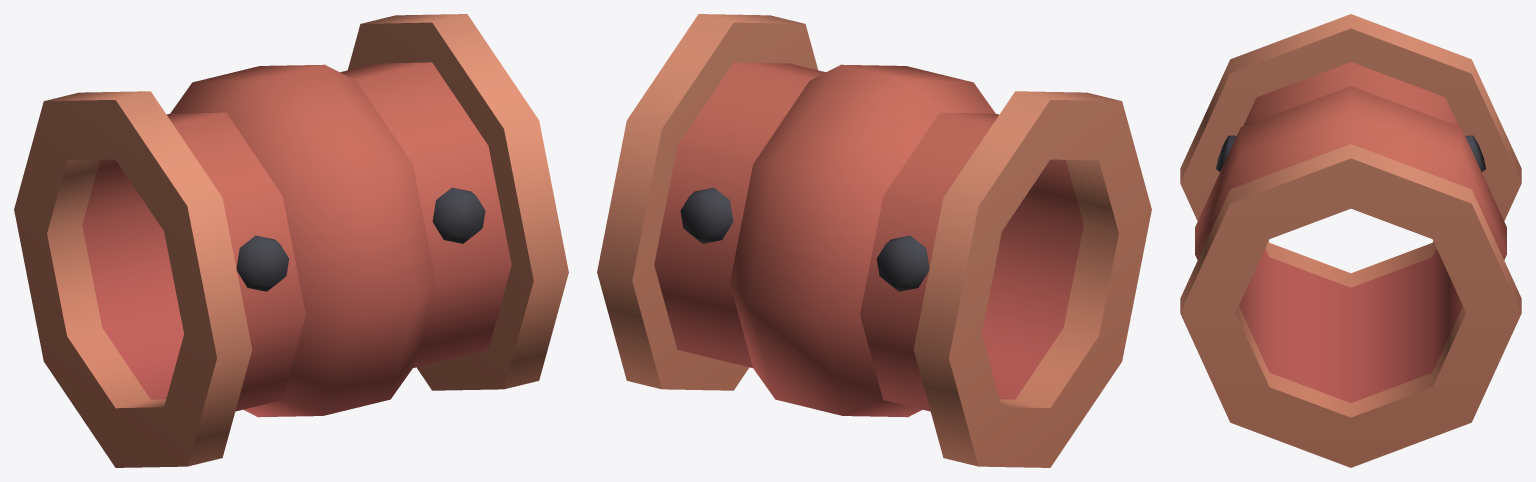
File: pipe-large-bump.obj
The picture shows the model from 3 angles, left to right: view 1: azimuth 30°, elevation 25°; view 2: azimuth 150°, elevation 25°; view 3: azimuth 270°, elevation 25°; orthographic projection. The views are drawn at different scales.
Visible parts, largest first — view 1: pipe-large-bump; view 2: pipe-large-bump; view 3: pipe-large-bump.
Boxes of the visible parts, x1,y1,x2,y2 form: pipe-large-bump: (14, 14, 568, 467); pipe-large-bump: (597, 14, 1151, 467); pipe-large-bump: (1180, 14, 1521, 467).
Bounding box in the file's own units: 1 × 1 × 1.
